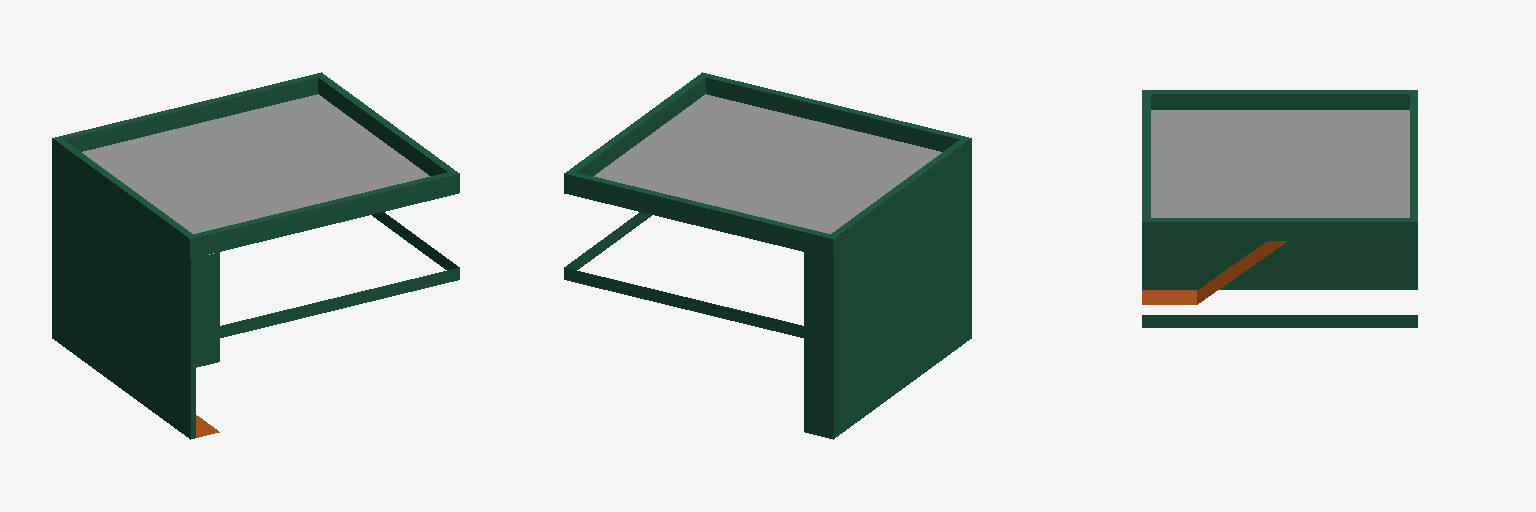
3 views of the same model, side by side, from view 1: azimuth 30°, elevation 25°; view 2: azimuth 150°, elevation 25°; view 3: azimuth 270°, elevation 25° (orthographic).
Parts seen in each view (by area): view 1: SketchUp_ID3; view 2: SketchUp_ID3; view 3: SketchUp_ID3.
Boxes of the visible parts, box(x1,y1,x2,y2) form: SketchUp_ID3: box(52, 72, 459, 439); SketchUp_ID3: box(564, 72, 971, 439); SketchUp_ID3: box(1142, 90, 1417, 327).
Bounding box in the file's own units: 9 × 6.4 × 8.